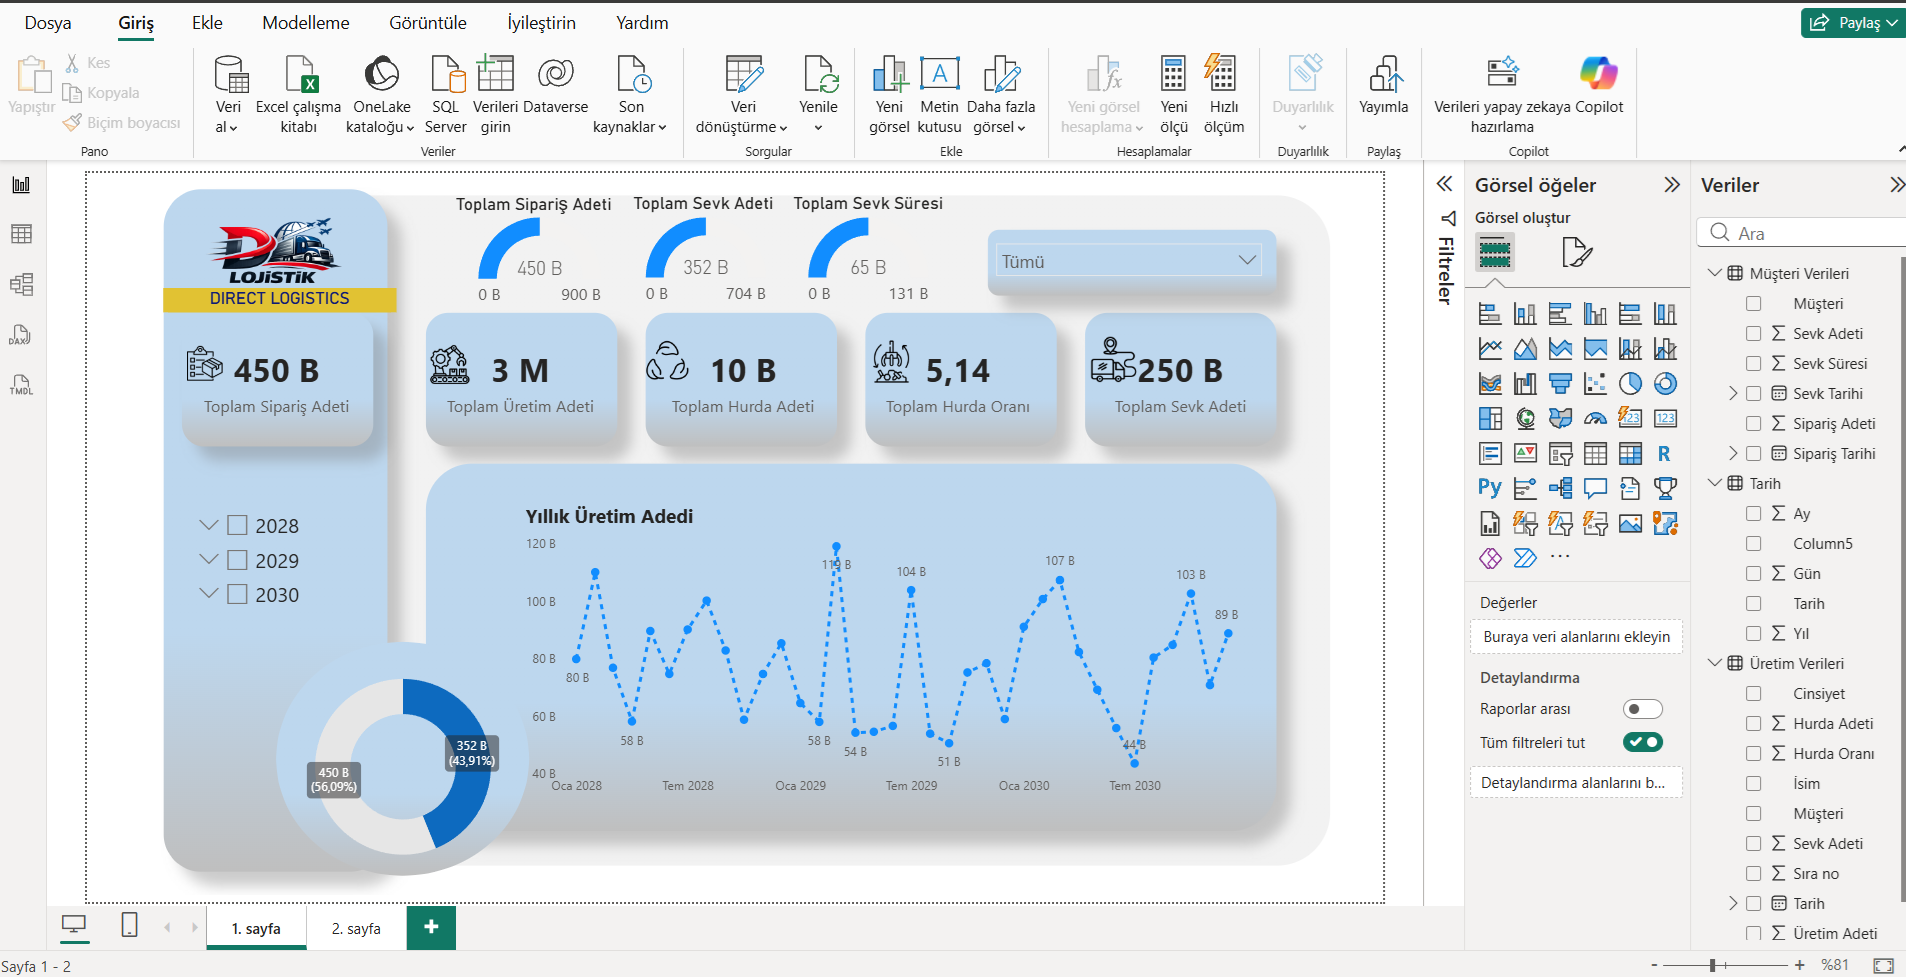

This screenshot's page, from the dashboard's own definition file:
{"tool":"powerbi","page":{"name":"1. sayfa","canvas":[1280,720],"ordinal":0},"visuals":[{"type":"card","fields":{"Values":["Sum(Üretim Verileri.Üretim Adeti)"]},"box":[338.8,155,180,100],"z":0},{"type":"card","fields":{"Values":["Sum(Üretim Verileri.Sevk Adeti)"]},"box":[990,155,180,100],"z":1000},{"type":"card","fields":{"Values":["Sum(Üretim Verileri.Hurda Oranı)"]},"box":[770,155,180,100],"z":2000},{"type":"card","fields":{"Values":["Sum(Üretim Verileri.Hurda Adeti)"]},"box":[557.5,155,180,100],"z":3000},{"type":"card","fields":{"Values":["Sum(Müşteri Verileri.Sipariş Adeti)"]},"box":[97.5,155,180,100],"z":4000},{"type":"slicer","fields":{"Values":["Müşteri Verileri.Müşteri"]},"box":[887.5,63.8,282.5,47.5],"z":5000},{"type":"gauge","fields":{"Y":["Sum(Müşteri Verileri.Sipariş Adeti)"]},"box":[395,17.5,176.2,121.2],"z":6000},{"type":"gauge","fields":{"Y":["Sum(Müşteri Verileri.Sevk Adeti)"]},"box":[571.2,17.5,153.8,120],"z":7000},{"type":"gauge","fields":{"Y":["Sum(Müşteri Verileri.Sevk Süresi)"]},"box":[728.8,17.5,158.8,120],"z":8000},{"type":"lineChart","title":"Yıllık Üretim Adedi","fields":{"Y":["Sum(Üretim Verileri.Üretim Adeti)"],"Category":["Üretim Verileri.Tarih.Varyasyon.Tarih Hiyerarşisi.Yıl","Üretim Verileri.Tarih.Varyasyon.Tarih Hiyerarşisi.Çeyrek","Üretim Verileri.Tarih.Varyasyon.Tarih Hiyerarşisi.Ay","Üretim Verileri.Tarih.Varyasyon.Tarih Hiyerarşisi.Gün"]},"box":[428.8,326.2,730,297.5],"z":9000},{"type":"slicer","fields":{"Values":["Üretim Verileri.Tarih.Varyasyon.Tarih Hiyerarşisi.Yıl","Üretim Verileri.Tarih.Varyasyon.Tarih Hiyerarşisi.Çeyrek","Üretim Verileri.Tarih.Varyasyon.Tarih Hiyerarşisi.Ay","Üretim Verileri.Tarih.Varyasyon.Tarih Hiyerarşisi.Gün"]},"box":[97.5,326.2,150,140],"z":10000},{"type":"donutChart","fields":{"Y":["Sum(Müşteri Verileri.Sevk Adeti)","Sum(Müşteri Verileri.Sipariş Adeti)"]},"box":[116.2,466.2,392.5,240],"z":11000},{"type":"image","box":[542.5,163.8,62.5,41.2],"z":12000},{"type":"image","box":[766.2,165,55,41.2],"z":13000},{"type":"image","box":[975,161.2,77.5,45],"z":14000},{"type":"image","box":[330,168.8,57.5,40],"z":15000},{"type":"image","box":[98.8,168.8,35,37.5],"z":16000},{"type":"image","box":[36.2,0,302.5,168.8],"z":17000},{"type":"textbox","title":"DIRECT LOGISTICS","box":[75,113.8,230,23.8],"z":18000}]}

Visuals, with their boxes on the page's 1280x720 design canvas (x1, y1, x2, y2). These are canvas units, not pixel positions in the 1906x977 screenshot, which may show the page scaled, cropped or inside an application window:
card - Sum(Üretim Verileri.Üretim Adeti): l=339, t=155, r=519, b=255
card - Sum(Üretim Verileri.Sevk Adeti): l=990, t=155, r=1170, b=255
card - Sum(Üretim Verileri.Hurda Oranı): l=770, t=155, r=950, b=255
card - Sum(Üretim Verileri.Hurda Adeti): l=558, t=155, r=738, b=255
card - Sum(Müşteri Verileri.Sipariş Adeti): l=98, t=155, r=278, b=255
slicer - Müşteri Verileri.Müşteri: l=888, t=64, r=1170, b=111
gauge - Sum(Müşteri Verileri.Sipariş Adeti): l=395, t=18, r=571, b=139
gauge - Sum(Müşteri Verileri.Sevk Adeti): l=571, t=18, r=725, b=138
gauge - Sum(Müşteri Verileri.Sevk Süresi): l=729, t=18, r=888, b=138
"Yıllık Üretim Adedi" lineChart: l=429, t=326, r=1159, b=624
slicer - Üretim Verileri.Tarih.Varyasyon.Tarih Hiyerarşisi.Yıl x Üretim Verileri.Tarih.Varyasyon.Tarih Hiyerarşisi.Çeyrek: l=98, t=326, r=248, b=466
donutChart - Sum(Müşteri Verileri.Sevk Adeti) x Sum(Müşteri Verileri.Sipariş Adeti): l=116, t=466, r=509, b=706
image: l=542, t=164, r=605, b=205
image: l=766, t=165, r=821, b=206
image: l=975, t=161, r=1052, b=206
image: l=330, t=169, r=388, b=209
image: l=99, t=169, r=134, b=206
image: l=36, t=0, r=339, b=169
"DIRECT LOGISTICS" textbox: l=75, t=114, r=305, b=138
